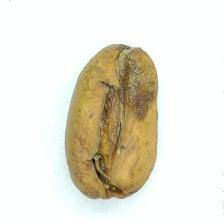NG: (85, 47, 152, 199)
